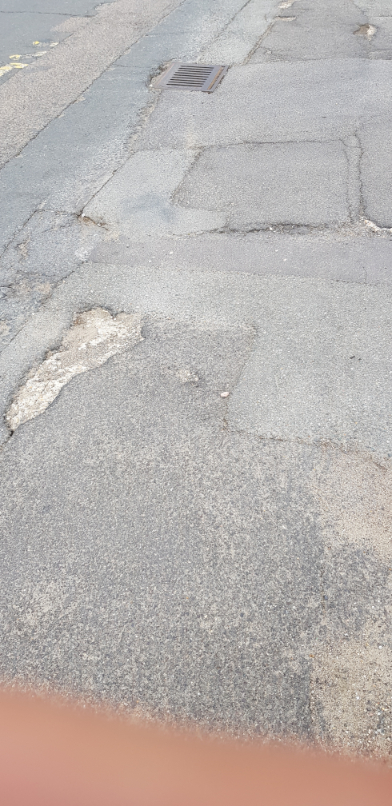pothole: (2, 300, 152, 439)
